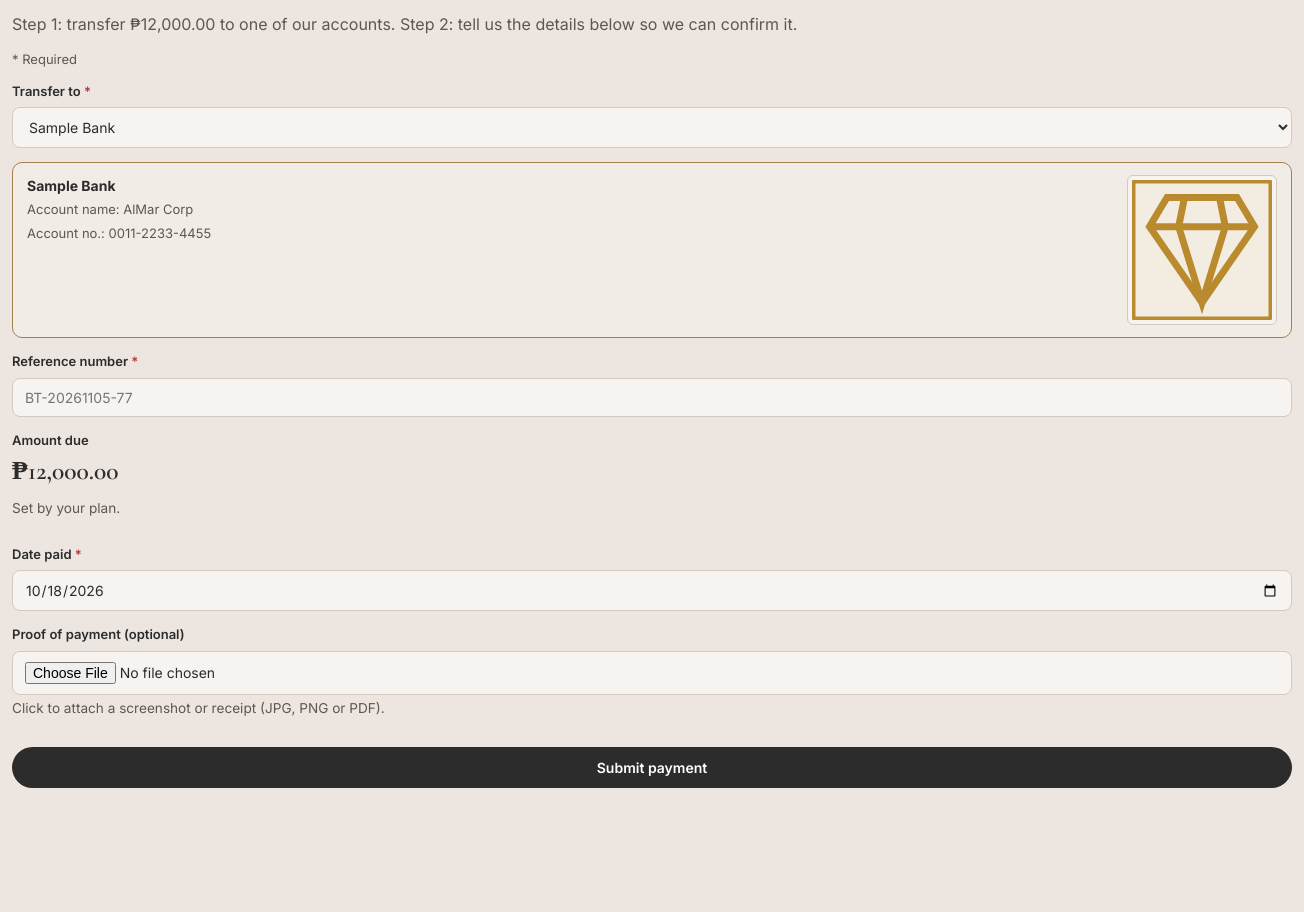
ManualPaymentForm › default-selects the first bank and updates details when switching
Check: the text "Account name: AlMar Corp" is shown, box [27,200,211,220]
Check: the text "Account no.: 0011-2233-4455" is shown, box [27,224,211,243]
Select "Other Bank" in the dropdown labelled "Transfer to" at (652,128), box [12,107,1292,148]
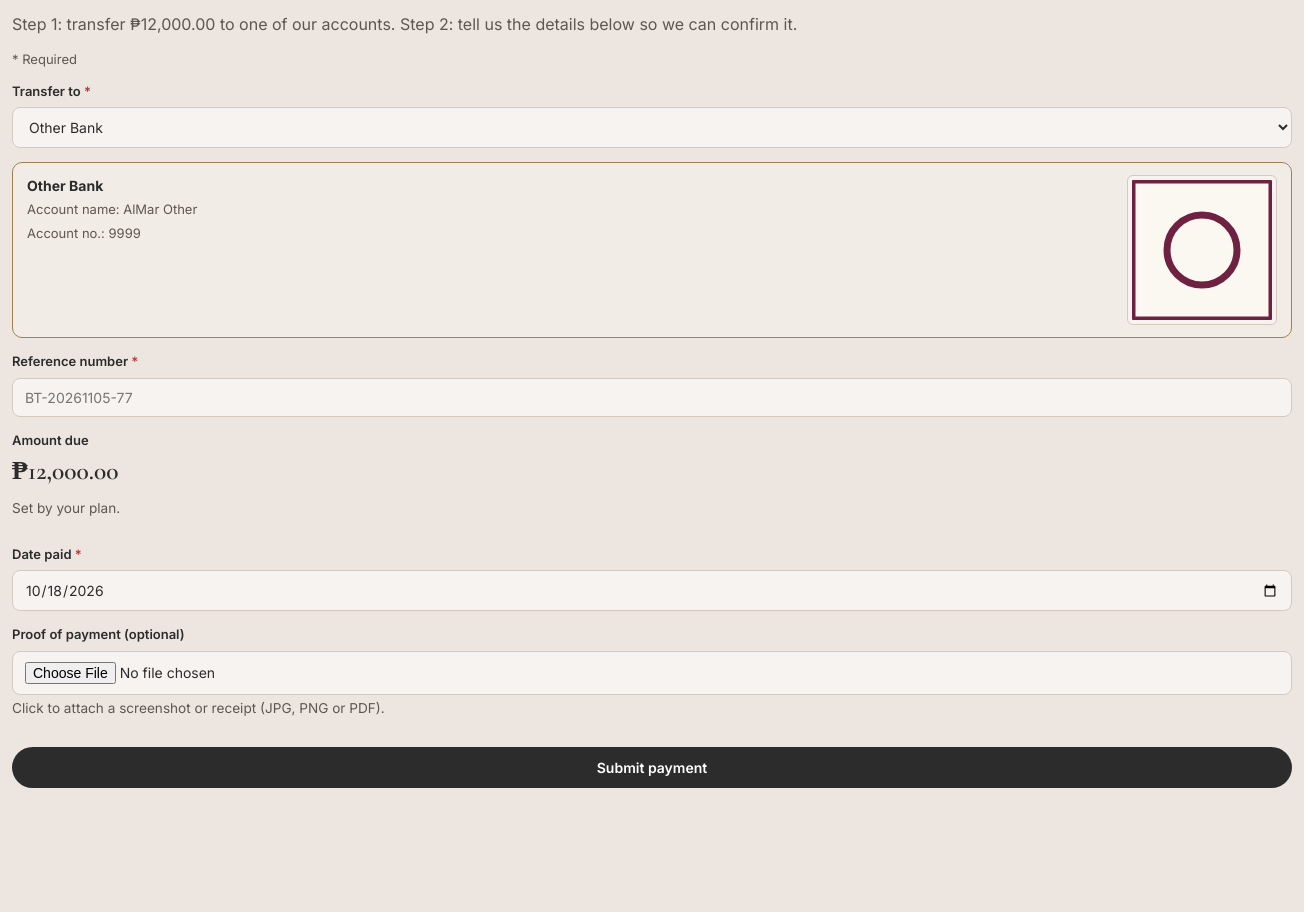
Check: the text "Account name: AlMar Other" is shown, box [27,200,197,220]
Check: the text "Account no.: 9999" is shown, box [27,224,141,240]
